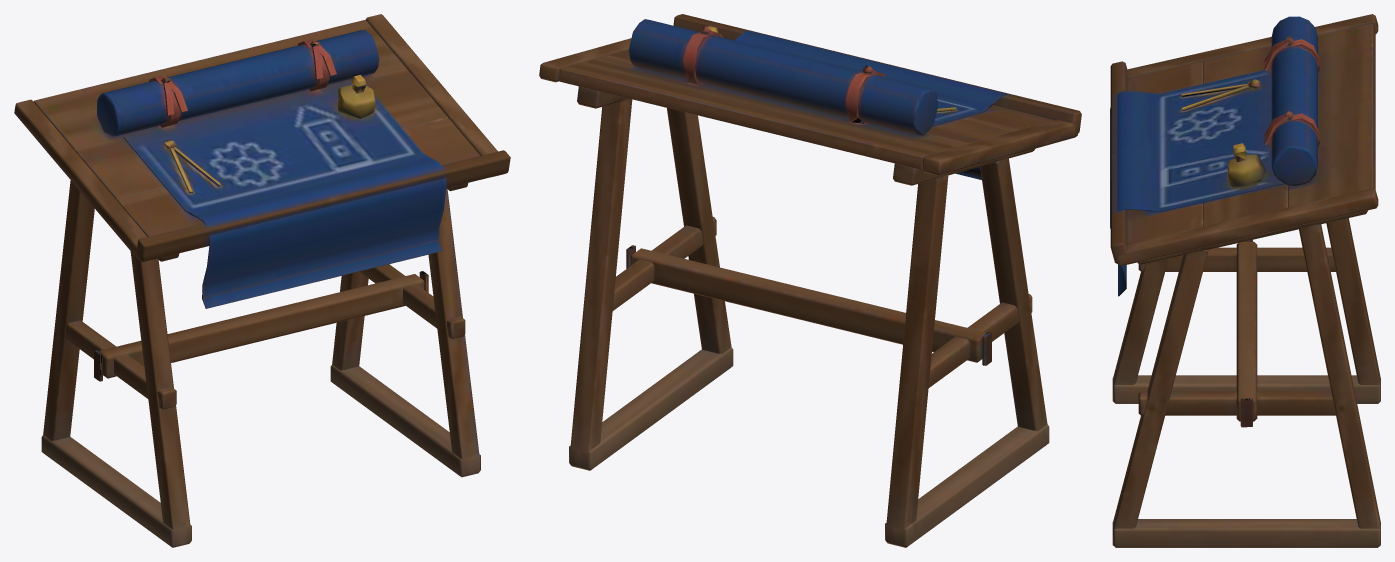
File: blueprint.low.glb
3 renders of one model, left to right at view 1: azimuth 30°, elevation 25°; view 2: azimuth 150°, elevation 25°; view 3: azimuth 270°, elevation 25°, orthographic. The views are drawn at different scales.
Parts seen in each view (by area): view 1: blueprint; view 2: blueprint; view 3: blueprint.
Boxes of the visible parts, left/top/right/bottom form: blueprint: left=14, top=14, right=510, bottom=547; blueprint: left=539, top=14, right=1081, bottom=547; blueprint: left=1110, top=14, right=1380, bottom=547.
Size of the model in its own units: 0.84 by 0.8504 by 0.5253.
Materials: 1 (1 with a texture image).
